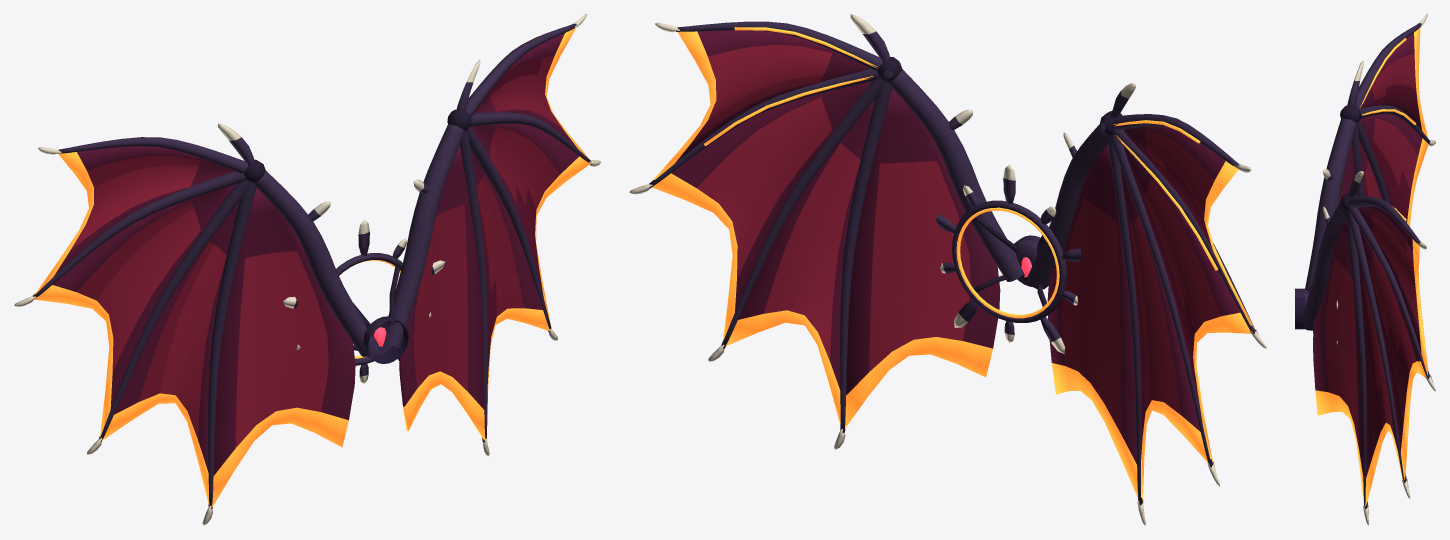
Rendered from b_abyss.glb.
The picture shows the model from 3 angles, left to right: view 1: azimuth 30°, elevation 25°; view 2: azimuth 150°, elevation 25°; view 3: azimuth 270°, elevation 25°; orthographic projection. The views are drawn at different scales.
Visible parts, largest first — view 1: WingRMesh, WingLMesh, BackMesh; view 2: WingLMesh, WingRMesh, BackMesh; view 3: WingLMesh, WingRMesh, BackMesh.
Boxes of the visible parts, x1,y1,x2,y2 form: WingRMesh: (14,123,378,525); WingLMesh: (384,14,600,455); BackMesh: (282,219,445,383); WingLMesh: (629,14,1023,449); WingRMesh: (1027,83,1266,525); BackMesh: (936,164,1081,354); WingLMesh: (1302,171,1435,525); WingRMesh: (1305,14,1435,332); BackMesh: (1295,286,1338,344).
Size of the model in its own units: 2.02 by 1.32 by 0.4833.
